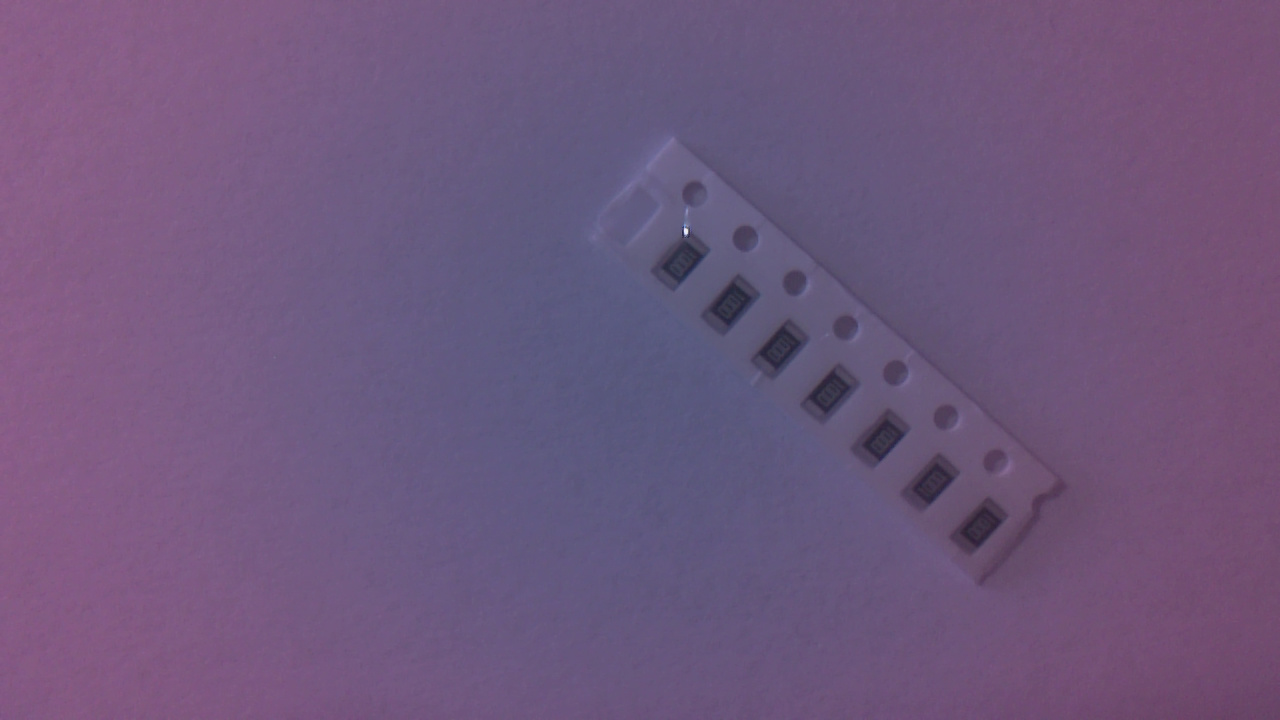Resistor: (655, 235, 718, 300), (954, 498, 1015, 565), (855, 411, 915, 478), (757, 320, 815, 388), (807, 367, 867, 432), (707, 278, 765, 342), (908, 456, 966, 519)
